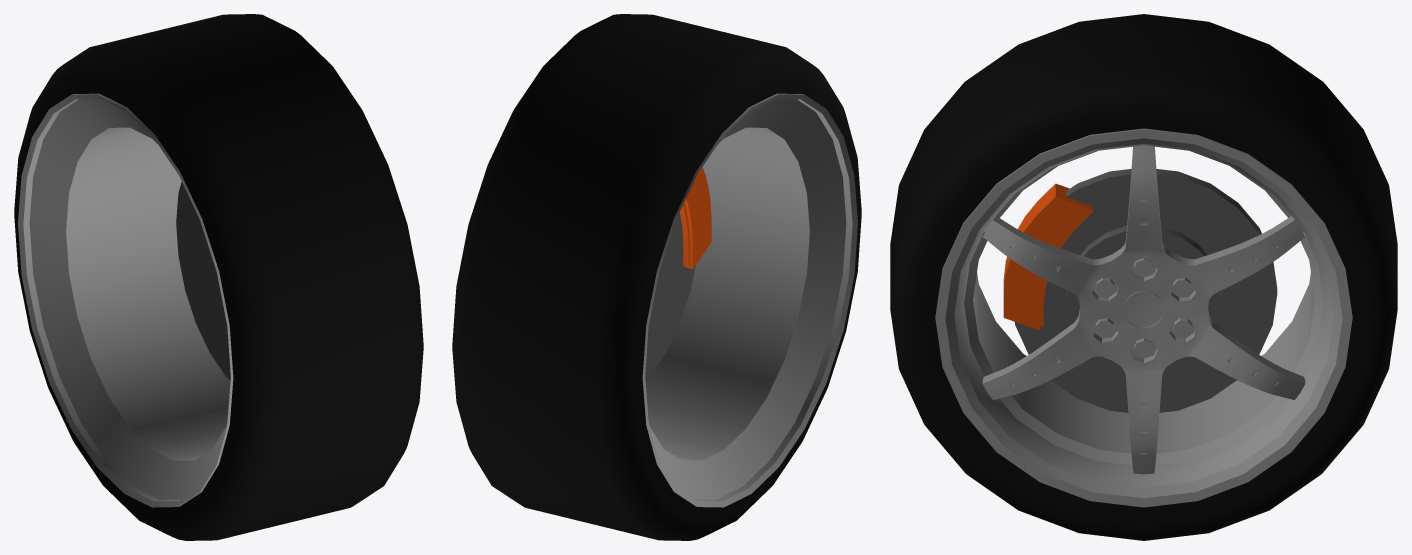
File: Nissan_350Z_RuedaI.obj
The picture shows the model from 3 angles, left to right: view 1: azimuth 30°, elevation 25°; view 2: azimuth 150°, elevation 25°; view 3: azimuth 270°, elevation 25°; orthographic projection.
Visible parts, largest first — view 1: Cube_001; view 2: Cube_001; view 3: Cube_001.
Part boxes in pixels (x1=…): Cube_001: x1=14, y1=14, x2=423, y2=540; Cube_001: x1=452, y1=14, x2=861, y2=540; Cube_001: x1=890, y1=14, x2=1397, y2=540.
Bounding box in the file's own units: 1.42 × 3.46 × 3.46.
